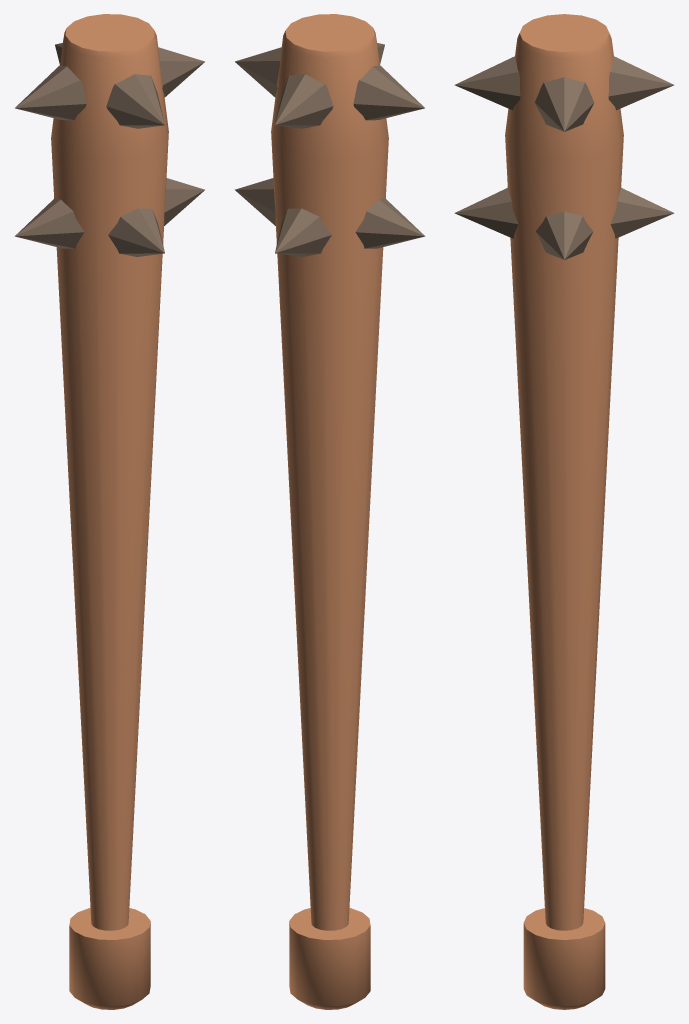
Rendered from Modeling_Batte.fbx.
3 renders of one model, left to right at view 1: azimuth 30°, elevation 25°; view 2: azimuth 150°, elevation 25°; view 3: azimuth 270°, elevation 25°, orthographic.
Visible parts, largest first — view 1: Batte_base, Pics_batte; view 2: Batte_base, Pics_batte; view 3: Batte_base, Pics_batte.
Part boxes in pixels (x1,y1,x2,y2): Batte_base: [51, 14, 168, 1009]; Pics_batte: [14, 43, 204, 256]; Batte_base: [271, 14, 388, 1009]; Pics_batte: [235, 43, 425, 256]; Batte_base: [505, 14, 623, 1009]; Pics_batte: [454, 56, 674, 259].
Size of the model in its own units: 32.2 by 155 by 32.2.
